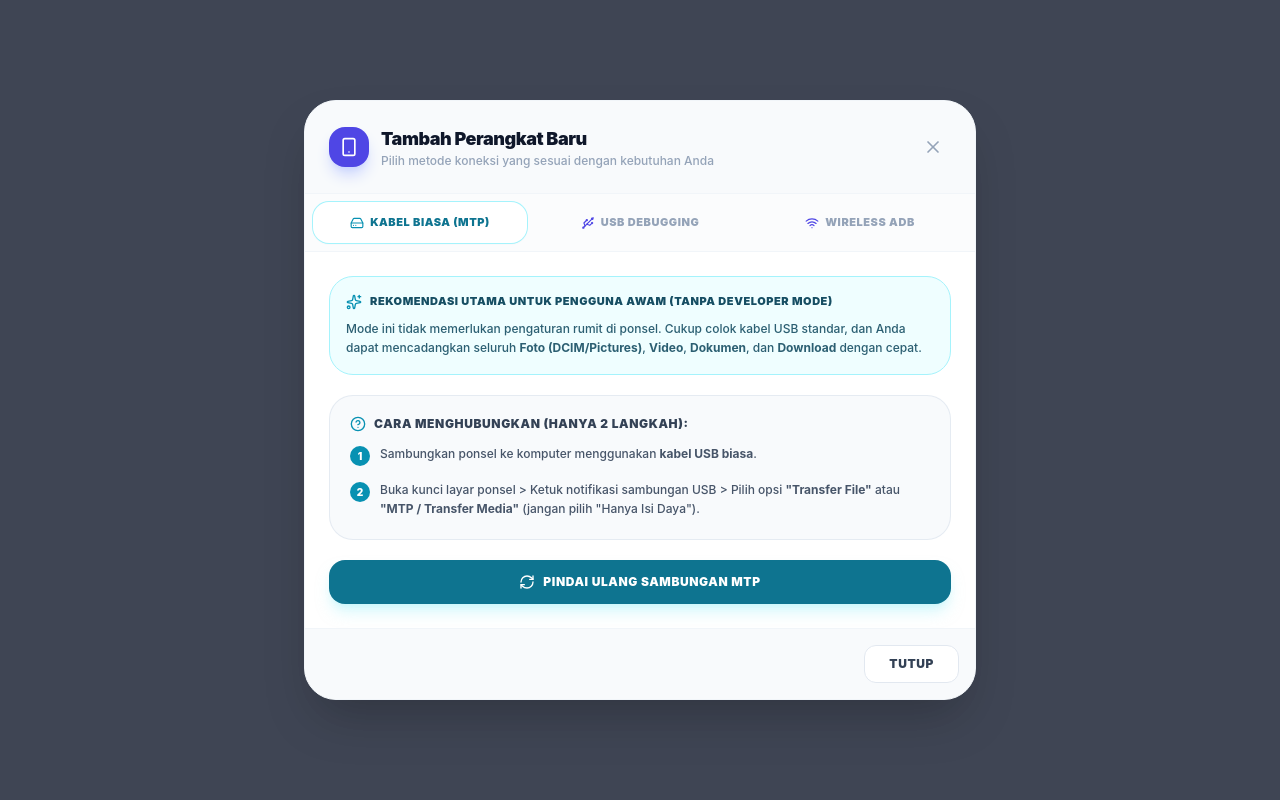
Scenario: AddDeviceModal Component › defaults to MTP tab and switches between tabs correctly
Check: the text "Rekomendasi Utama untuk Pengguna Awam (Tanpa Developer Mode)" is shown, box [346,294,833,310]
Check: the button "Pindai Ulang Sambungan MTP" is shown, box [329,560,951,604]
Switch to USB Debugging tab
Click the button "USB Debugging": {"x": 640, "y": 223} [533,202,747,243]
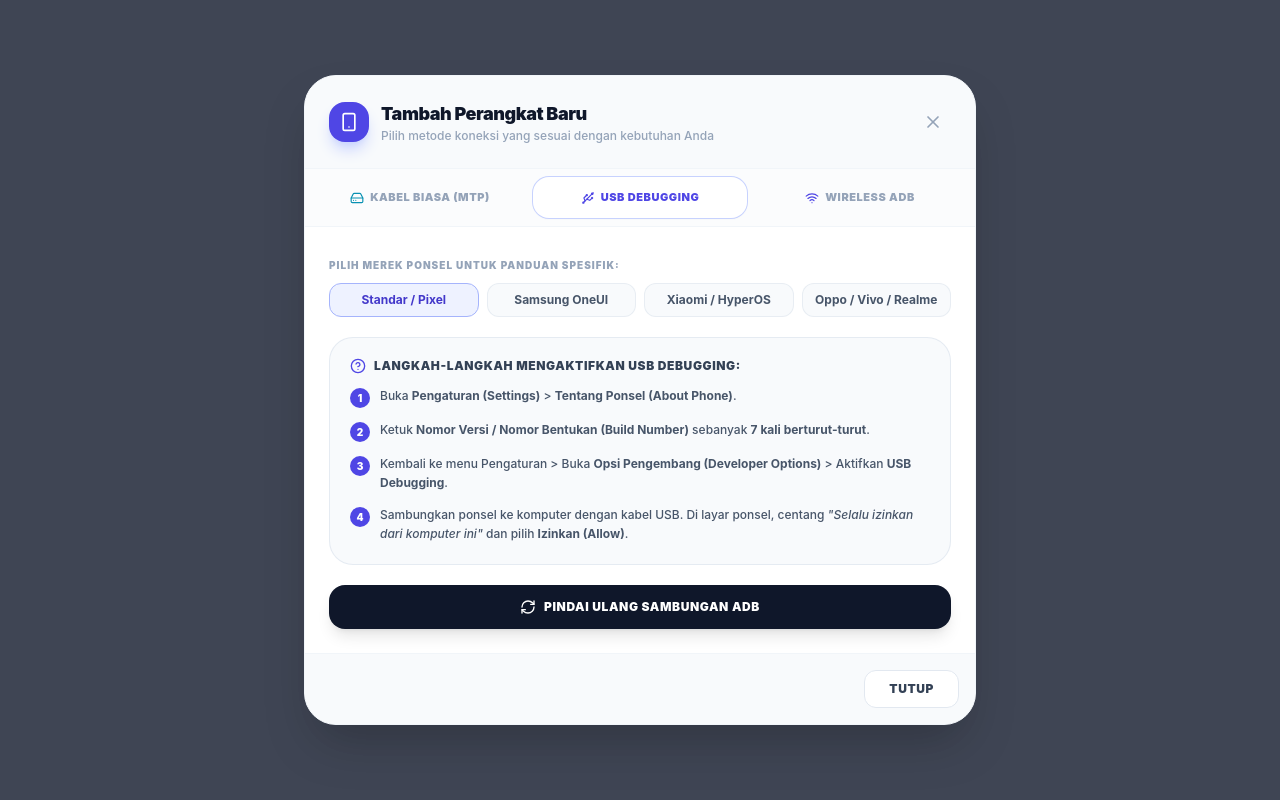
Check: the heading "Langkah-Langkah Mengaktifkan USB Debugging:" is shown, box [350,358,741,374]
Switch to Wireless tab
Click the button "Wireless ADB": {"x": 860, "y": 198} [753,177,967,218]
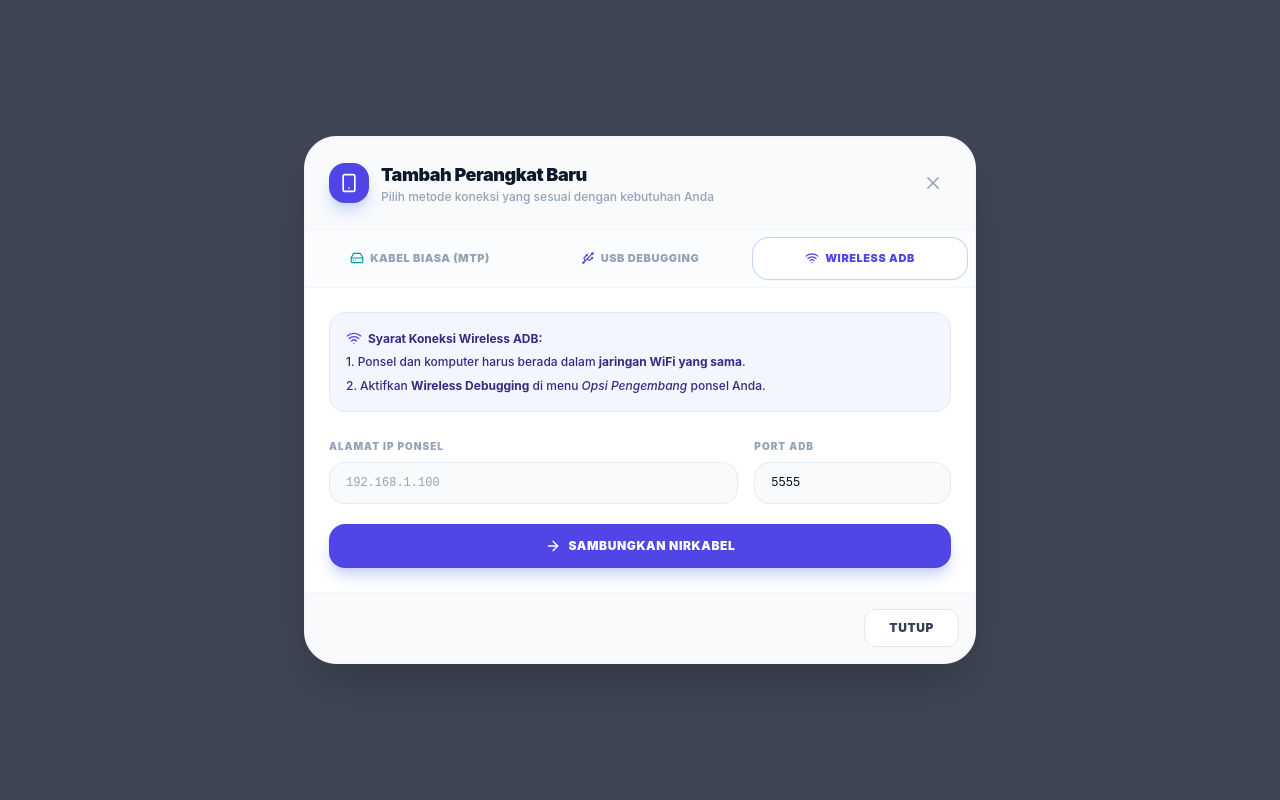
Check: the field with placeholder "192.168.1.100" is shown, box [329,462,738,504]
Check: the button "Sambungkan Nirkabel" is shown, box [329,524,951,568]
